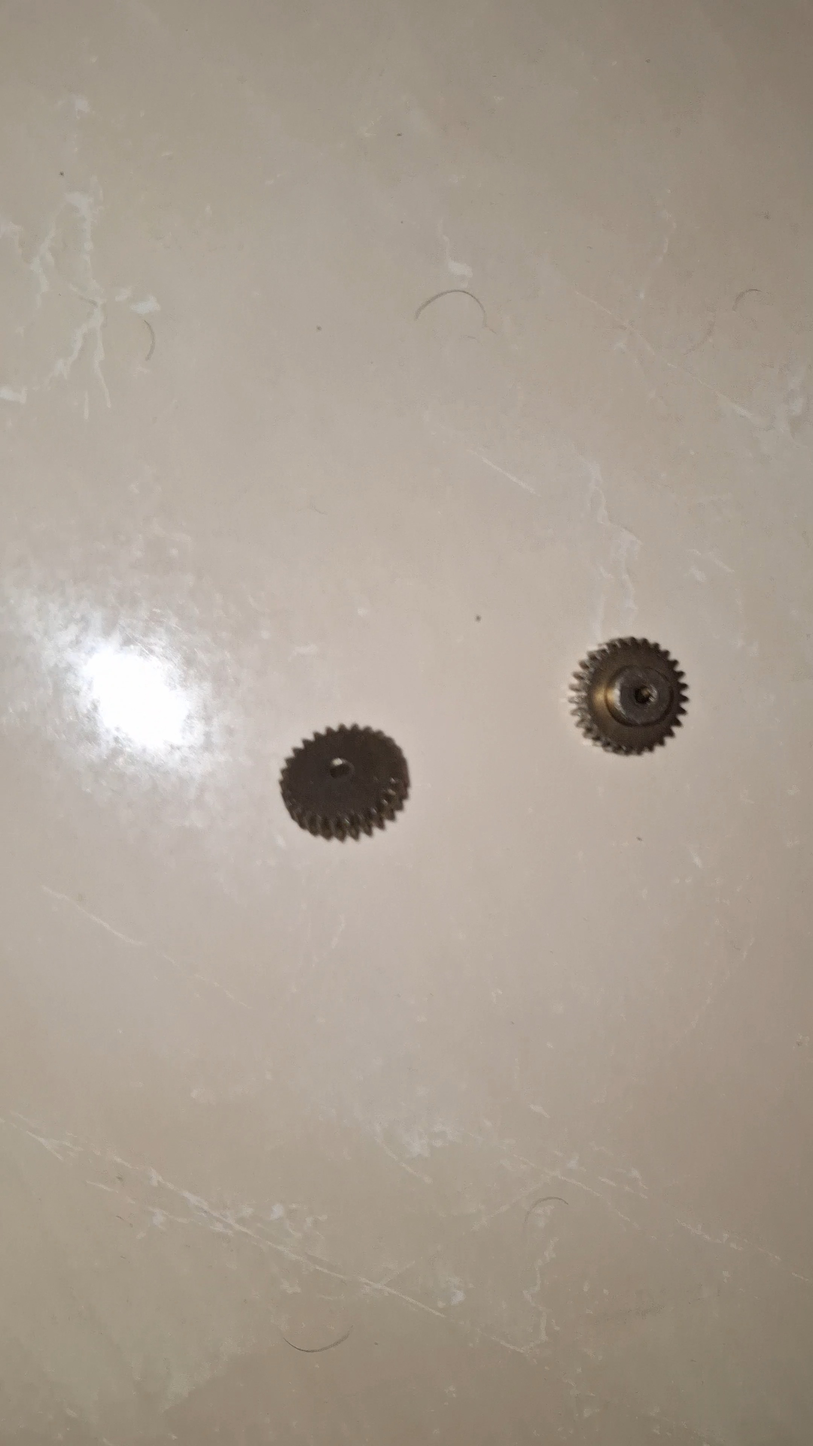spur gear: (280, 725, 408, 839), (571, 639, 687, 754)
